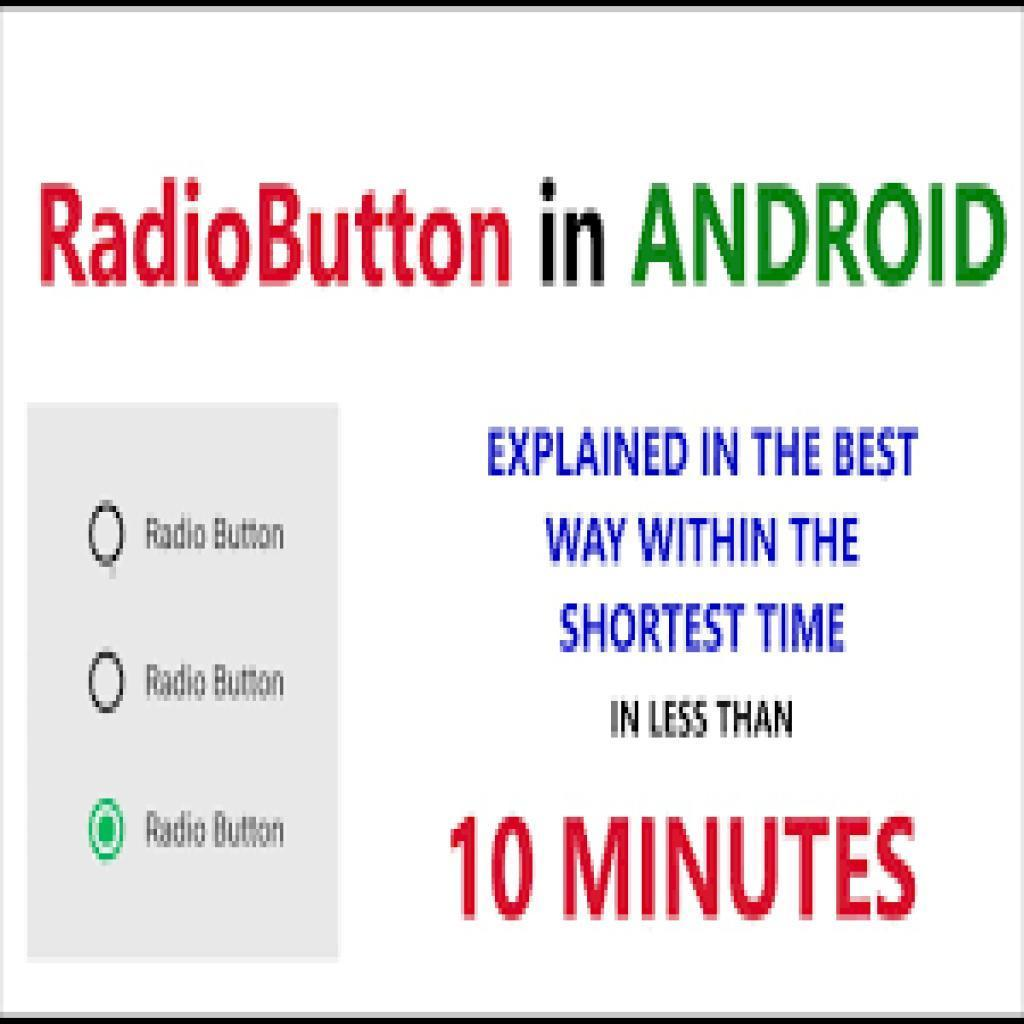radio: (85, 644, 129, 717), (81, 797, 126, 866), (89, 499, 128, 573)
